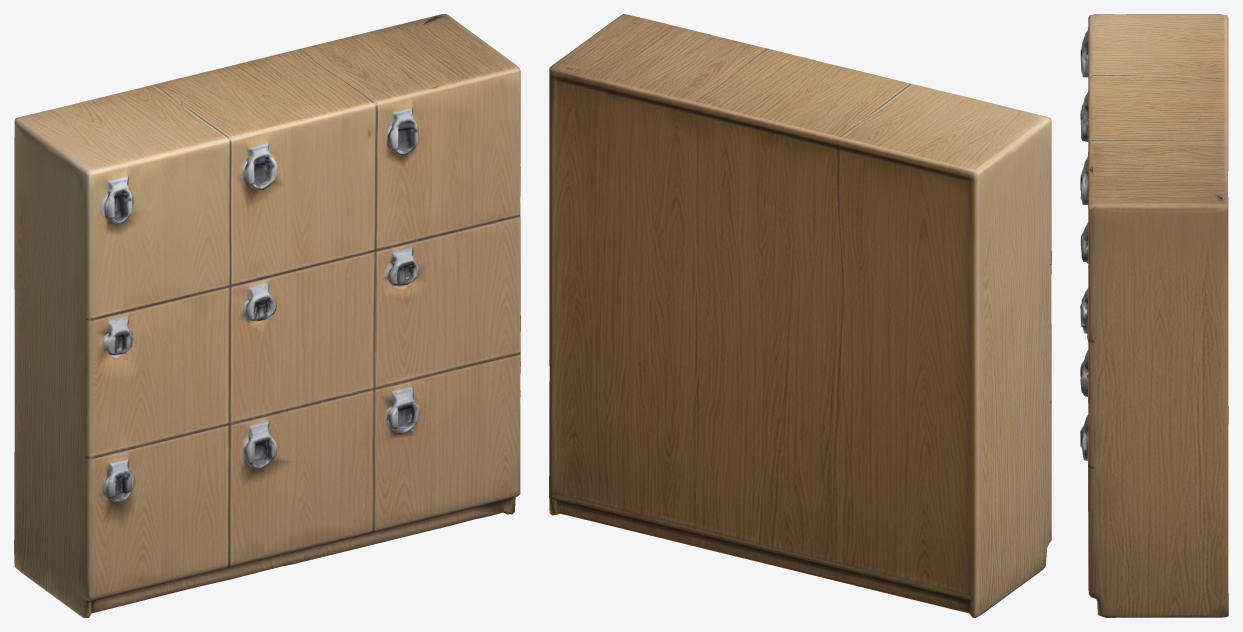
Rendered from Cabinet.fbx.
3 views of the same model, side by side, from view 1: azimuth 30°, elevation 25°; view 2: azimuth 150°, elevation 25°; view 3: azimuth 270°, elevation 25° (orthographic). The views are drawn at different scales.
Visible parts, largest first — view 1: material_0; view 2: material_0; view 3: material_0.
Part boxes in pixels (x1,y1,x2,y2): material_0: (14, 14, 520, 617); material_0: (549, 14, 1051, 617); material_0: (1080, 14, 1228, 617).
Size of the model in its own units: 100 by 99.54 by 32.4.
Materials: 1 (1 with a texture image).
